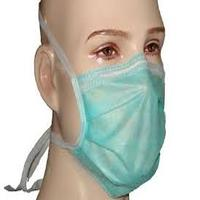flu mask: (64, 55, 168, 196)
